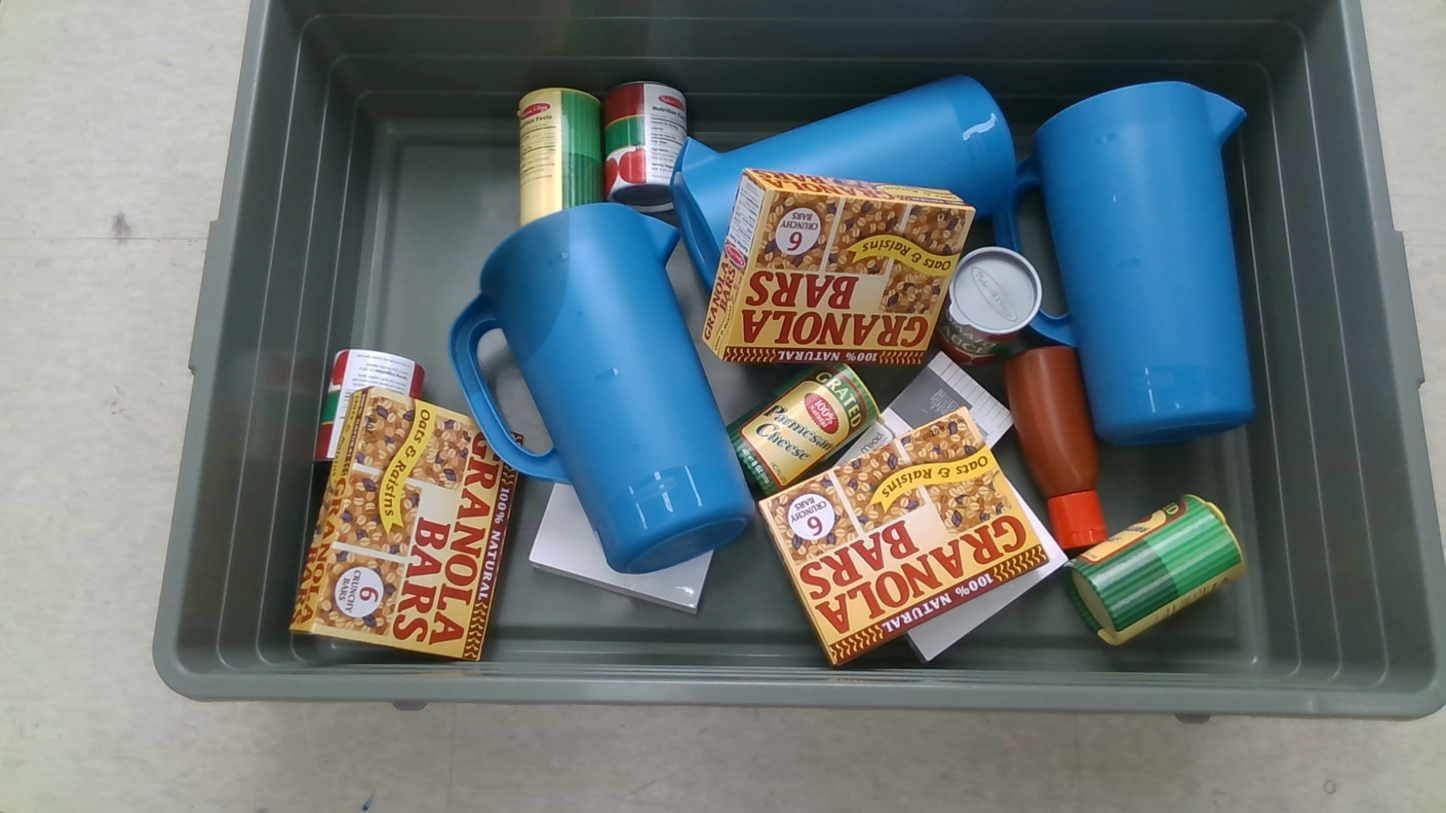defect: (448, 211, 569, 397)
